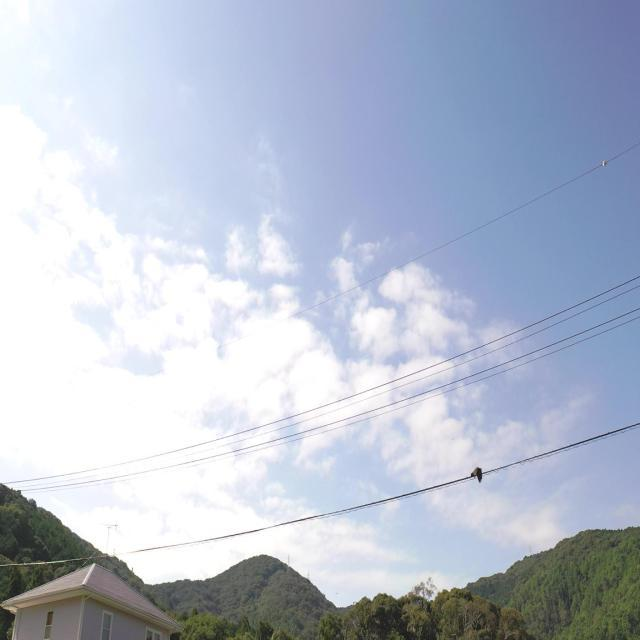Birds: (467, 458, 489, 486)
